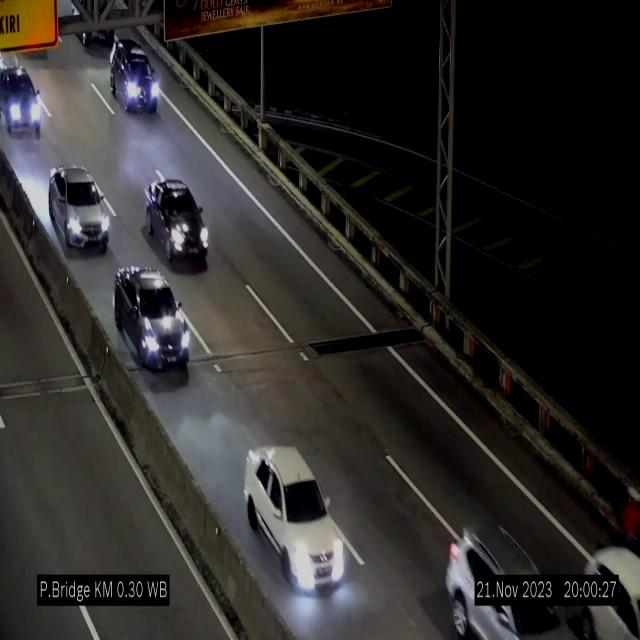Car: (443, 496, 574, 640), (244, 446, 346, 588), (114, 265, 192, 375), (566, 526, 640, 640), (145, 174, 211, 271), (49, 165, 109, 250), (108, 36, 164, 118), (0, 64, 42, 138)
Motorcycle: (610, 483, 640, 552)
